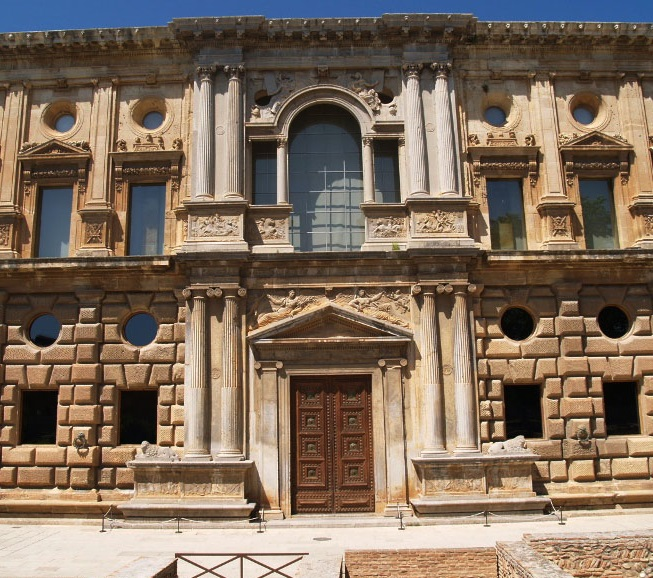fronton: (242, 301, 419, 349), (556, 129, 639, 154), (15, 137, 94, 161)
ojo-de-buey: (117, 303, 164, 348), (21, 308, 65, 350), (40, 96, 83, 137), (498, 302, 538, 344), (595, 301, 635, 342), (129, 94, 172, 132), (569, 93, 607, 127), (478, 99, 510, 128)
serliana: (242, 81, 404, 211)
vano-adintelado: (274, 357, 388, 518), (568, 164, 628, 250), (22, 175, 82, 260), (479, 169, 533, 252), (121, 174, 171, 261)
